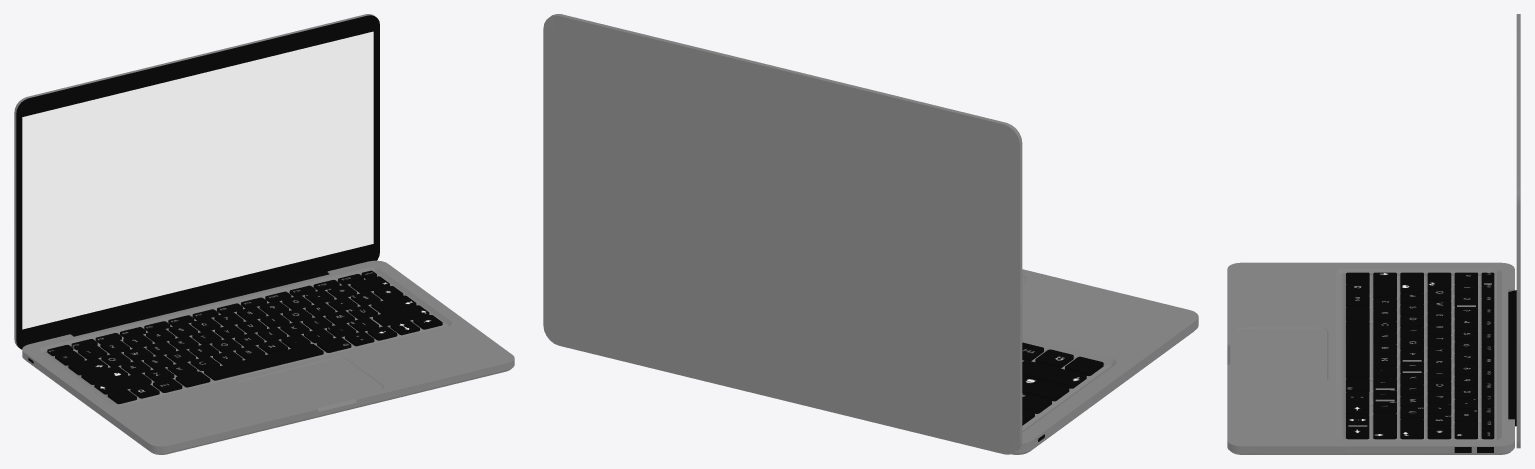
Rendered from laptop-transformed.glb.
3 views of the same model, side by side, from view 1: azimuth 30°, elevation 25°; view 2: azimuth 150°, elevation 25°; view 3: azimuth 270°, elevation 25° (orthographic). The views are drawn at different scales.
Visible parts, largest first — view 1: Screen_ComputerScreen_0, Frame_ComputerFrame_0; view 2: Screen_ComputerScreen_0, Frame_ComputerFrame_0; view 3: Frame_ComputerFrame_0, Screen_ComputerScreen_0.
Boxes of the visible parts, x1=… form: Screen_ComputerScreen_0: x1=14, y1=14, x2=379, y2=349; Frame_ComputerFrame_0: x1=22, y1=260, x2=514, y2=454; Screen_ComputerScreen_0: x1=543, y1=14, x2=1022, y2=454; Frame_ComputerFrame_0: x1=1011, y1=269, x2=1198, y2=454; Frame_ComputerFrame_0: x1=1227, y1=262, x2=1514, y2=454; Screen_ComputerScreen_0: x1=1508, y1=14, x2=1520, y2=448.
Bounding box in the file's own units: 30.4 × 20.56 × 20.5.
Materials: 2 (2 with a texture image).
